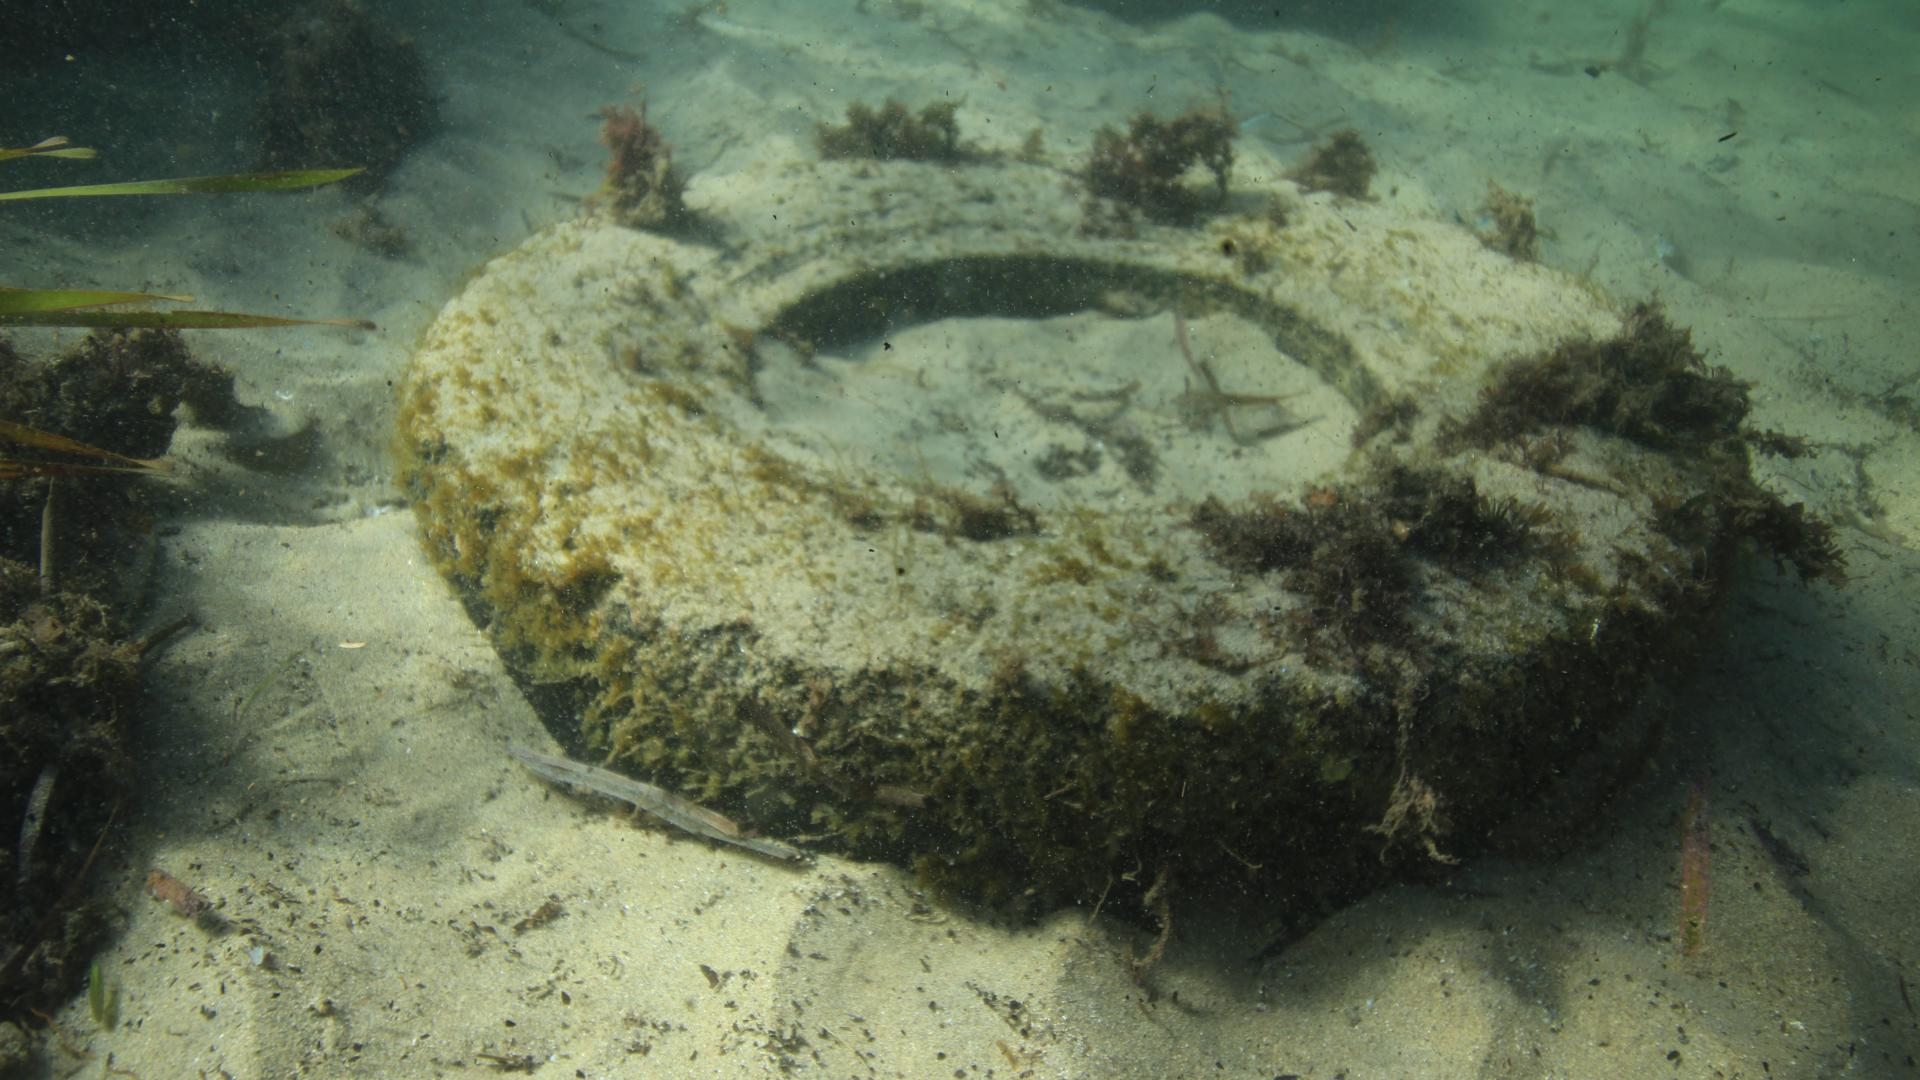tire: (394, 145, 1731, 934)
